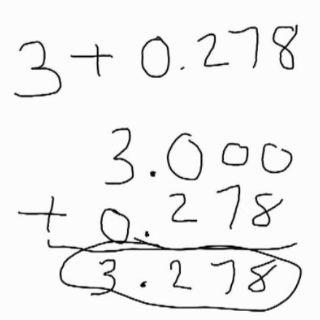.: (148, 169, 158, 179), (178, 63, 187, 73), (144, 229, 151, 240)
0: (165, 130, 204, 181), (140, 34, 170, 79), (260, 140, 292, 175), (221, 139, 248, 169)
2: (165, 191, 201, 224), (195, 31, 225, 68), (167, 258, 194, 292)
3: (9, 38, 64, 99), (103, 124, 136, 187)
7: (227, 23, 263, 69), (214, 183, 244, 232), (209, 259, 237, 296)
8: (270, 23, 303, 71), (251, 189, 284, 228), (248, 259, 278, 294)
